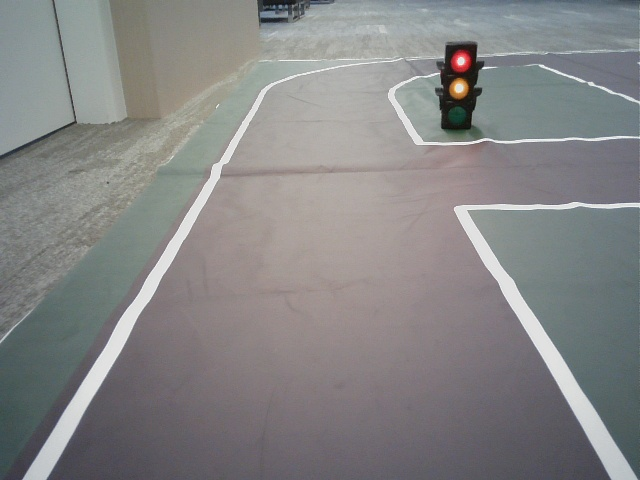red: (445, 41, 470, 122)
